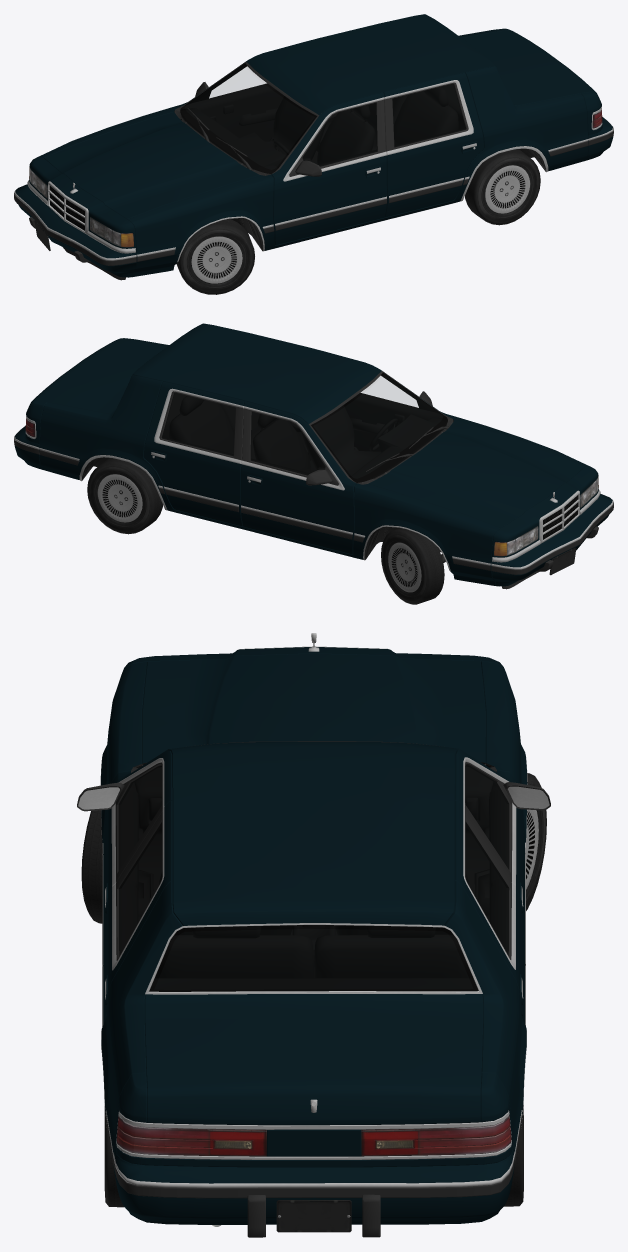
3 views of the same model, one above another, from view 1: azimuth 30°, elevation 25°; view 2: azimuth 150°, elevation 25°; view 3: azimuth 270°, elevation 25° (orthographic). The views are drawn at different scales.
Parts seen in each view (by area): view 1: Body_Bodycolor_0, Hood_Bodycolor_0, Fenders_front_Bodycolor_0, Door_FL_Bodycolor_0, Seats_Interior_0, Door_RL_Bodycolor_0, Trunk_door_Bodycolor_0, Wheel_FL_RIMSTOCK_04_0, Wheel_RL_RIMSTOCK_04_0, Doorcard_FR_Interior_0, Dashboard_Interior_0, Door_inner_FL_UCB_BOTTOM_0 (+13 smaller); view 2: Body_Bodycolor_0, Hood_Bodycolor_0, Seats_Interior_0, Fenders_front_Bodycolor_0, Door_FR_Bodycolor_0, Door_RR_Bodycolor_0, Trunk_door_Bodycolor_0, Wheel_RR_RIMSTOCK_04_0, Wheel_FR_RIMSTOCK_04_0, Doorcard_FL_Interior_0, Dashboard_Interior_0, Door_inner_FR_UCB_BOTTOM_0 (+14 smaller); view 3: Body_Bodycolor_0, Trunk_door_Bodycolor_0, Hood_Bodycolor_0, Seats_Interior_0, Bumper_rear_Bodycolor_0, Bumper_rear_inner_UCB_BOTTOM_0, Brakelights_glass_Riverside88_Headlights_0, Fenders_front_Bodycolor_0, Interior_Interior_0, Body_trim_UCB_BOTTOM_0, Dashboard_Interior_0, Front_plate_Bodycolor_0 (+18 smaller).
Boxes of the visible parts, bbox=[...] form: Body_Bodycolor_0: bbox=[246, 14, 602, 248]; Hood_Bodycolor_0: bbox=[44, 112, 259, 219]; Fenders_front_Bodycolor_0: bbox=[40, 106, 274, 277]; Door_FL_Bodycolor_0: bbox=[271, 92, 387, 245]; Seats_Interior_0: bbox=[265, 87, 458, 164]; Door_RL_Bodycolor_0: bbox=[383, 72, 484, 217]; Trunk_door_Bodycolor_0: bbox=[462, 30, 595, 105]; Wheel_FL_RIMSTOCK_04_0: bbox=[176, 218, 254, 294]; Wheel_RL_RIMSTOCK_04_0: bbox=[465, 149, 540, 225]; Doorcard_FR_Interior_0: bbox=[180, 63, 283, 141]; Dashboard_Interior_0: bbox=[180, 108, 286, 173]; Door_inner_FL_UCB_BOTTOM_0: bbox=[275, 97, 386, 230]; Body_Bodycolor_0: bbox=[25, 323, 381, 557]; Hood_Bodycolor_0: bbox=[368, 421, 583, 528]; Seats_Interior_0: bbox=[169, 395, 381, 476]; Fenders_front_Bodycolor_0: bbox=[353, 415, 586, 585]; Door_FR_Bodycolor_0: bbox=[240, 401, 356, 554]; Door_RR_Bodycolor_0: bbox=[143, 381, 244, 526]; Trunk_door_Bodycolor_0: bbox=[32, 339, 165, 414]; Wheel_RR_RIMSTOCK_04_0: bbox=[87, 458, 162, 534]; Wheel_FR_RIMSTOCK_04_0: bbox=[381, 528, 444, 604]; Doorcard_FL_Interior_0: bbox=[344, 372, 447, 451]; Dashboard_Interior_0: bbox=[350, 414, 447, 482]; Door_inner_FR_UCB_BOTTOM_0: bbox=[241, 406, 352, 539]; Body_Bodycolor_0: bbox=[101, 742, 526, 1169]; Trunk_door_Bodycolor_0: bbox=[144, 994, 483, 1125]; Hood_Bodycolor_0: bbox=[142, 653, 485, 763]; Seats_Interior_0: bbox=[155, 871, 472, 978]; Bumper_rear_Bodycolor_0: bbox=[113, 1145, 514, 1224]; Bumper_rear_inner_UCB_BOTTOM_0: bbox=[113, 1151, 515, 1237]; Brakelights_glass_Riverside88_Headlights_0: bbox=[116, 1115, 511, 1156]; Fenders_front_Bodycolor_0: bbox=[101, 661, 527, 847]; Interior_Interior_0: bbox=[125, 765, 502, 991]; Body_trim_UCB_BOTTOM_0: bbox=[116, 741, 511, 1159]; Dashboard_Interior_0: bbox=[134, 766, 493, 834]; Front_plate_Bodycolor_0: bbox=[124, 647, 503, 668].
Size of the model in its own units: 193 by 52.28 by 75.08.
Materials: 6 (4 with a texture image).
